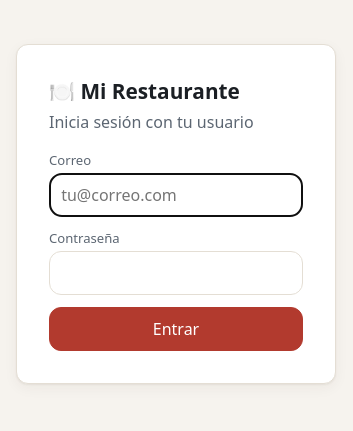
Test: LoginPage › muestra un mensaje de error si las credenciales son inválidas
Step 1. Type "admin@test.mx" into the field labelled "Correo" → (176, 194), box [49,172,303,216]
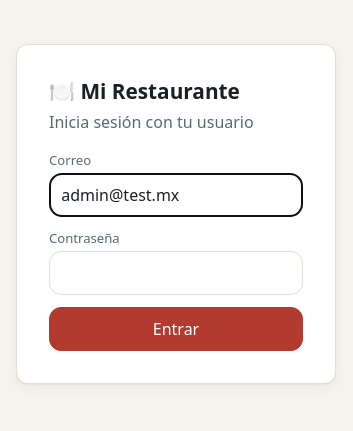
Step 2. Type "incorrecta" into the password field labelled "Contraseña" → (176, 272), box [49,250,303,294]
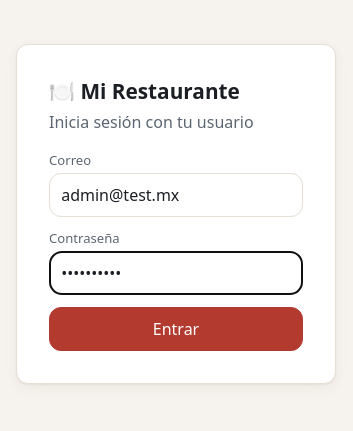
Step 3. Click the button "Entrar" → (176, 328), box [49,306,303,350]
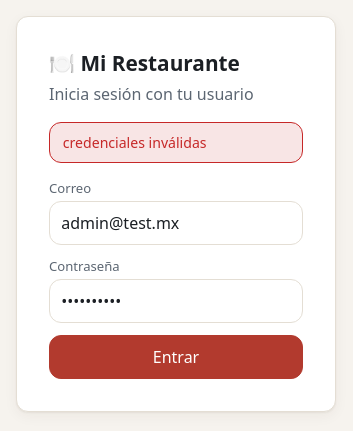
expect the text "credenciales inválidas" is shown: met, box [49,122,303,163]
